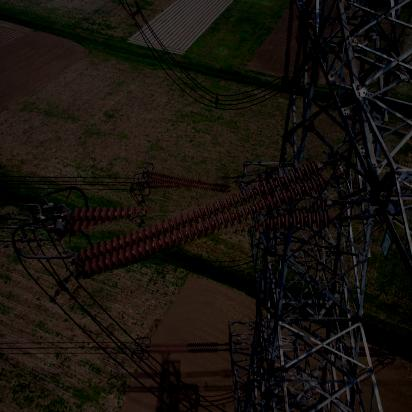insulator: (63, 170, 352, 262), (143, 166, 234, 195), (142, 340, 225, 355)
